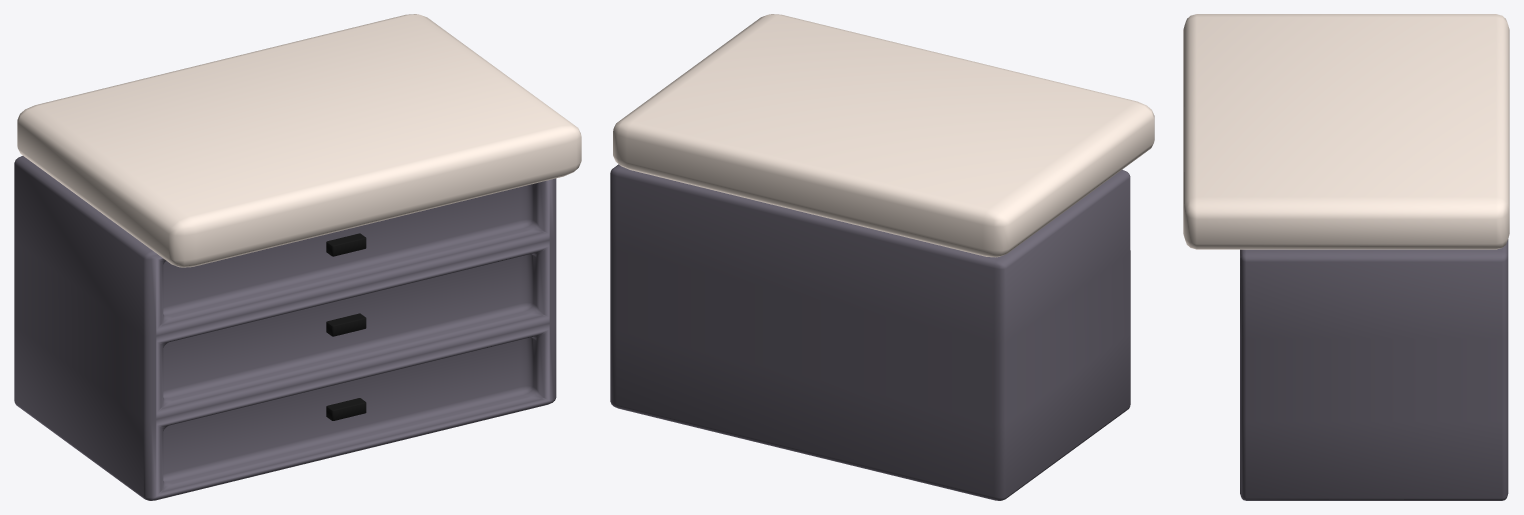
Rendered from Drawers.fbx.
3 renders of one model, left to right at view 1: azimuth 30°, elevation 25°; view 2: azimuth 150°, elevation 25°; view 3: azimuth 270°, elevation 25°, orthographic. The views are drawn at different scales.
Visible parts, largest first — view 1: Drawers, Countertop.001, Handle.004, Handle.005, Handle.003; view 2: Drawers, Countertop.001; view 3: Countertop.001, Drawers.
Part boxes in pixels (x1,y1,x2,y2): Drawers: (14, 156, 556, 500); Countertop.001: (17, 14, 581, 267); Handle.004: (326, 233, 366, 256); Handle.005: (326, 398, 366, 420); Handle.003: (326, 313, 366, 336); Drawers: (610, 164, 1130, 500); Countertop.001: (613, 14, 1154, 257); Countertop.001: (1183, 14, 1509, 249); Drawers: (1240, 239, 1508, 500).
Size of the model in its own units: 123 by 85.3 by 84.89.
